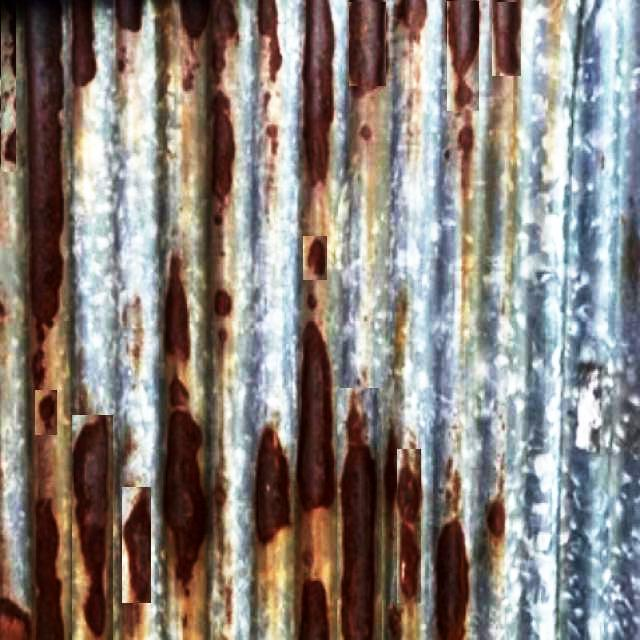Corrosion: (25, 0, 61, 386), (71, 416, 112, 640), (341, 406, 375, 640), (163, 410, 206, 586), (297, 322, 334, 512), (304, 0, 333, 184), (396, 450, 421, 640), (34, 500, 62, 640), (256, 429, 289, 544), (438, 521, 468, 640), (447, 0, 478, 110), (122, 489, 150, 604), (350, 0, 385, 89), (164, 256, 189, 360), (211, 91, 234, 200), (71, 0, 94, 84), (258, 0, 281, 80), (300, 581, 328, 640), (0, 600, 29, 640), (302, 236, 326, 280), (33, 390, 55, 436), (180, 0, 208, 36), (212, 0, 236, 38), (397, 0, 426, 30), (116, 0, 140, 30), (168, 379, 188, 407), (213, 290, 231, 316)
